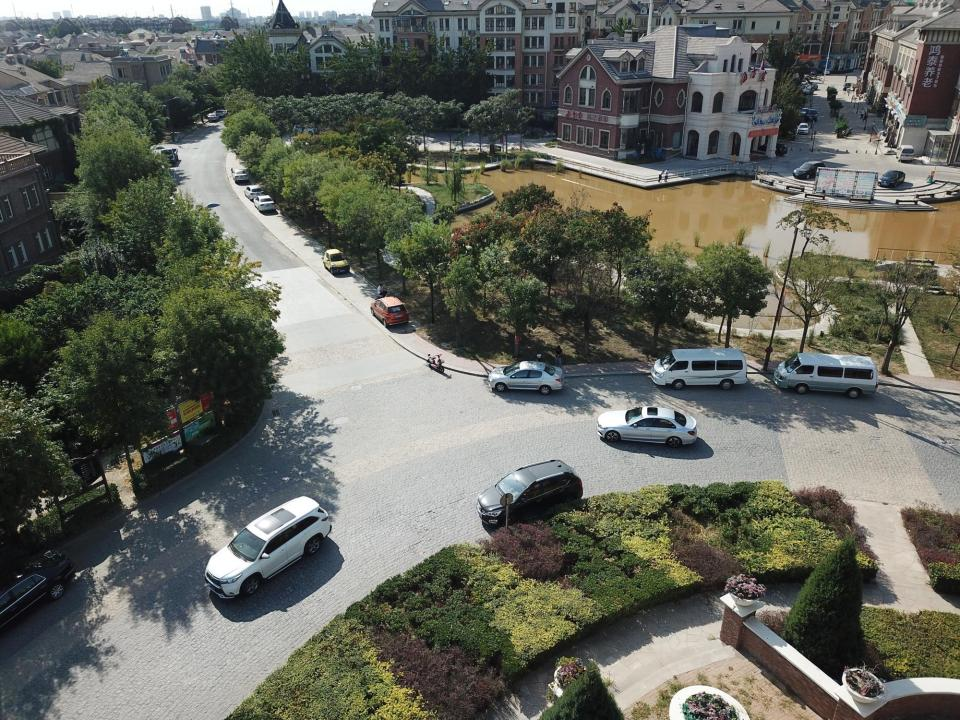car: (0, 547, 76, 639), (596, 406, 698, 448), (488, 360, 564, 395), (323, 249, 350, 275), (878, 170, 905, 188), (253, 194, 275, 212), (293, 122, 321, 136), (244, 185, 264, 201), (232, 169, 249, 182), (796, 123, 810, 134), (207, 113, 220, 122), (804, 84, 818, 90), (800, 108, 810, 116), (802, 88, 814, 94), (797, 82, 809, 88)
truck: (161, 148, 178, 165)
van: (204, 495, 332, 598), (477, 459, 583, 528), (773, 353, 878, 399), (650, 348, 748, 390), (370, 297, 409, 327), (792, 161, 826, 179), (758, 141, 788, 156), (896, 145, 914, 162), (805, 109, 819, 121), (216, 110, 228, 117), (843, 82, 851, 88), (810, 68, 816, 75), (823, 70, 829, 74)
